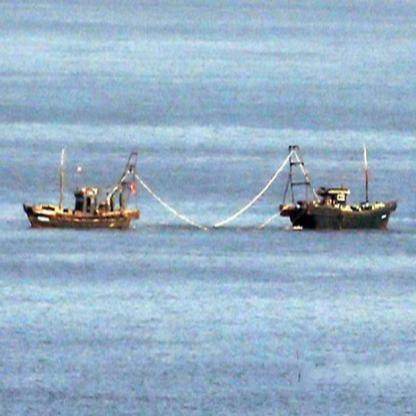fish-b: (278, 138, 402, 242), (18, 142, 146, 236)
